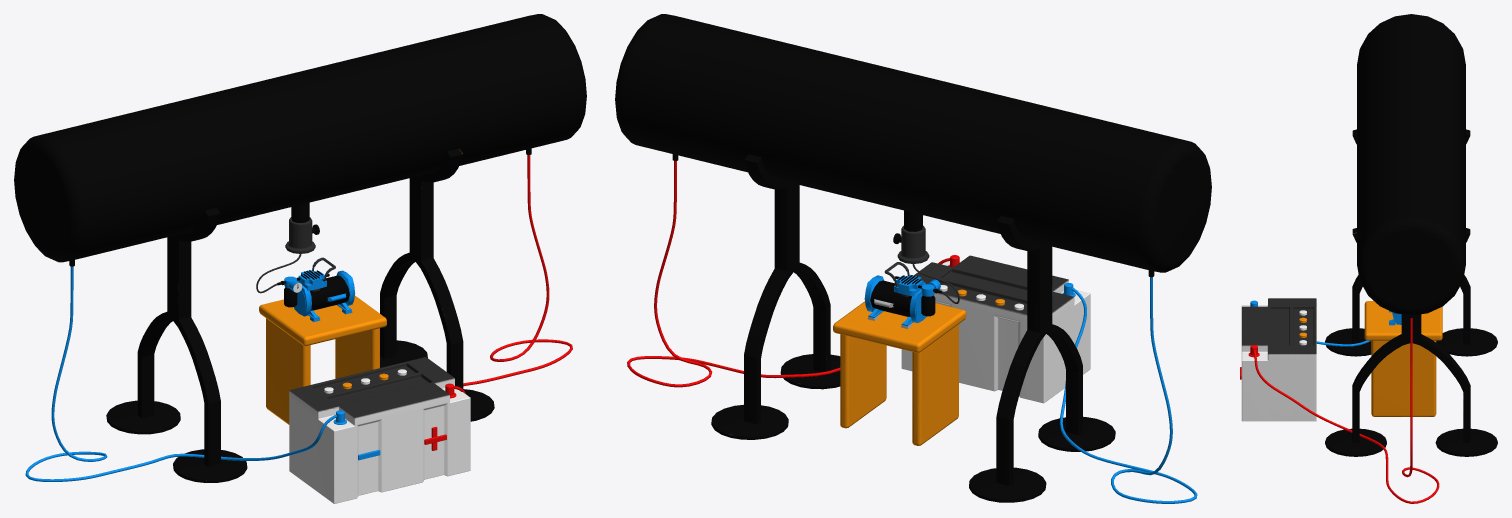
Rendered from AnodeTube.fbx.
3 views of the same model, side by side, from view 1: azimuth 30°, elevation 25°; view 2: azimuth 150°, elevation 25°; view 3: azimuth 270°, elevation 25° (orthographic). The views are drawn at different scales.
Visible parts, largest first — view 1: AnodeTube03, AnodeTube02, AnodeTube10, AnodeTube09, AnodeTube12, AnodeTube01, AnodeTube04; view 2: AnodeTube03, AnodeTube10, AnodeTube02, AnodeTube09, AnodeTube12, AnodeTube01, AnodeTube04; view 3: AnodeTube03, AnodeTube02, AnodeTube10, AnodeTube09, AnodeTube12.
Boxes of the visible parts, x1,y1,x2,y2 form: AnodeTube03: (14, 14, 586, 266); AnodeTube02: (289, 357, 470, 503); AnodeTube10: (106, 148, 494, 482); AnodeTube09: (259, 295, 386, 424); AnodeTube12: (25, 155, 572, 481); AnodeTube01: (277, 257, 355, 321); AnodeTube04: (285, 217, 315, 253); AnodeTube03: (615, 14, 1211, 277); AnodeTube10: (711, 154, 1115, 502); AnodeTube02: (901, 255, 1090, 403); AnodeTube09: (833, 301, 966, 445); AnodeTube12: (627, 161, 1197, 503); AnodeTube01: (864, 262, 941, 328); AnodeTube04: (897, 225, 929, 263); AnodeTube03: (1357, 14, 1465, 317); AnodeTube02: (1241, 298, 1316, 421); AnodeTube10: (1325, 129, 1497, 456); AnodeTube09: (1364, 301, 1442, 416); AnodeTube12: (1253, 318, 1439, 503).
Size of the model in its own units: 168 by 99.17 by 82.98.
Materials: 1 (1 with a texture image).
